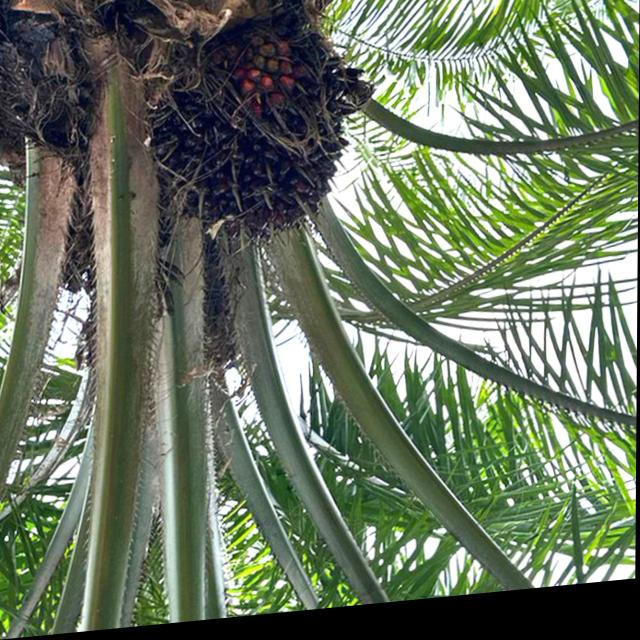ripe: (155, 15, 378, 254)
